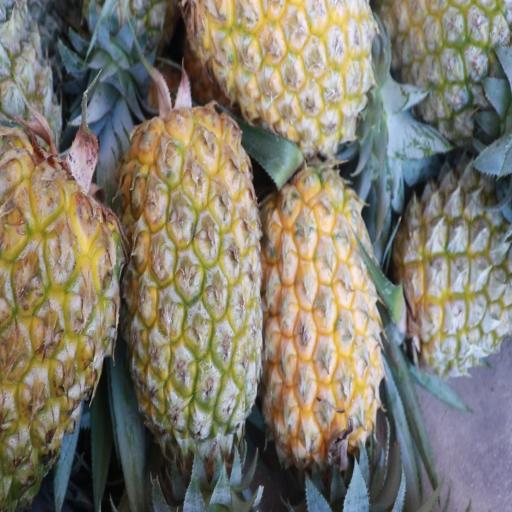------------------------------: (398, 172, 512, 369)
Pineapple - v8 v1: (126, 105, 262, 492), (0, 128, 120, 496), (265, 166, 381, 476), (196, 0, 374, 145), (392, 0, 511, 139)
